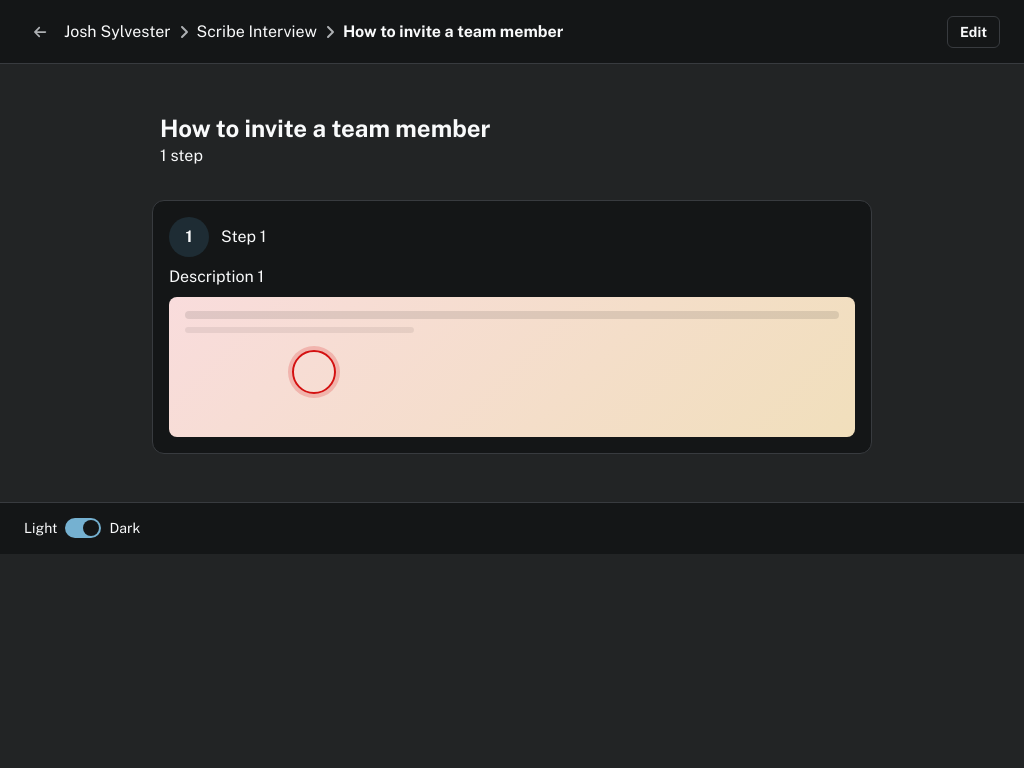
it: App: list sizes › deleting the last step leaves the empty message and focuses Undo
The image size is (1024, 768).
Click the button "Edit" at (974, 32), box [947,16,1000,48]
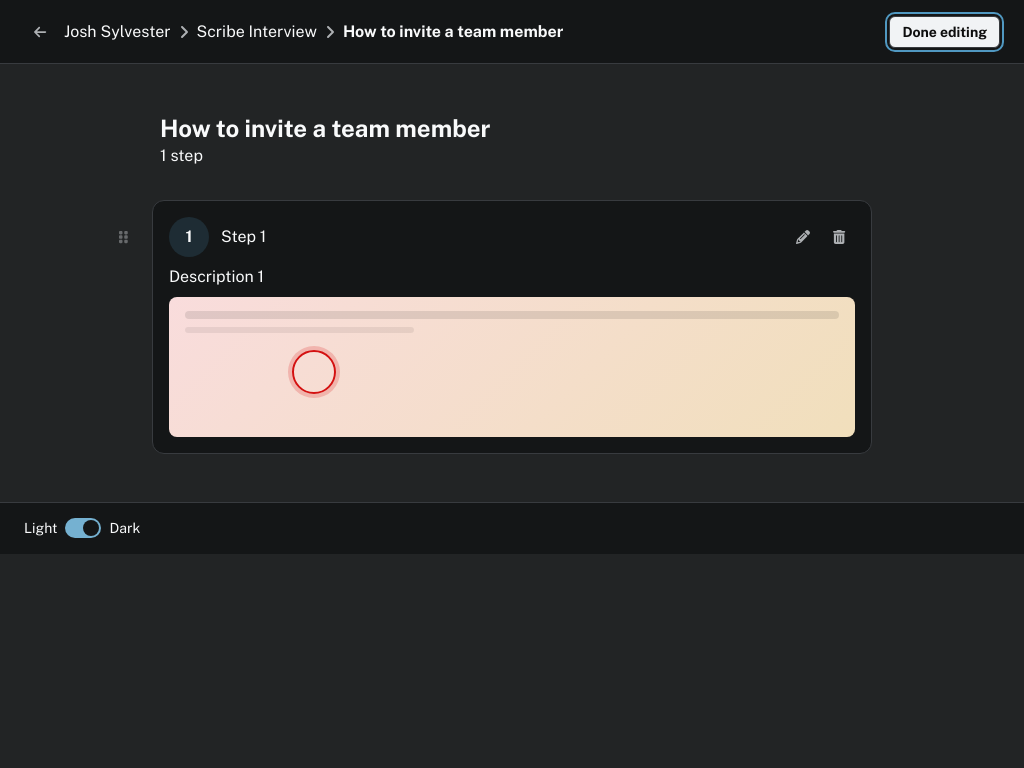
Click the button named "Delete Step 1" at (839, 237), box [823,221,855,253]
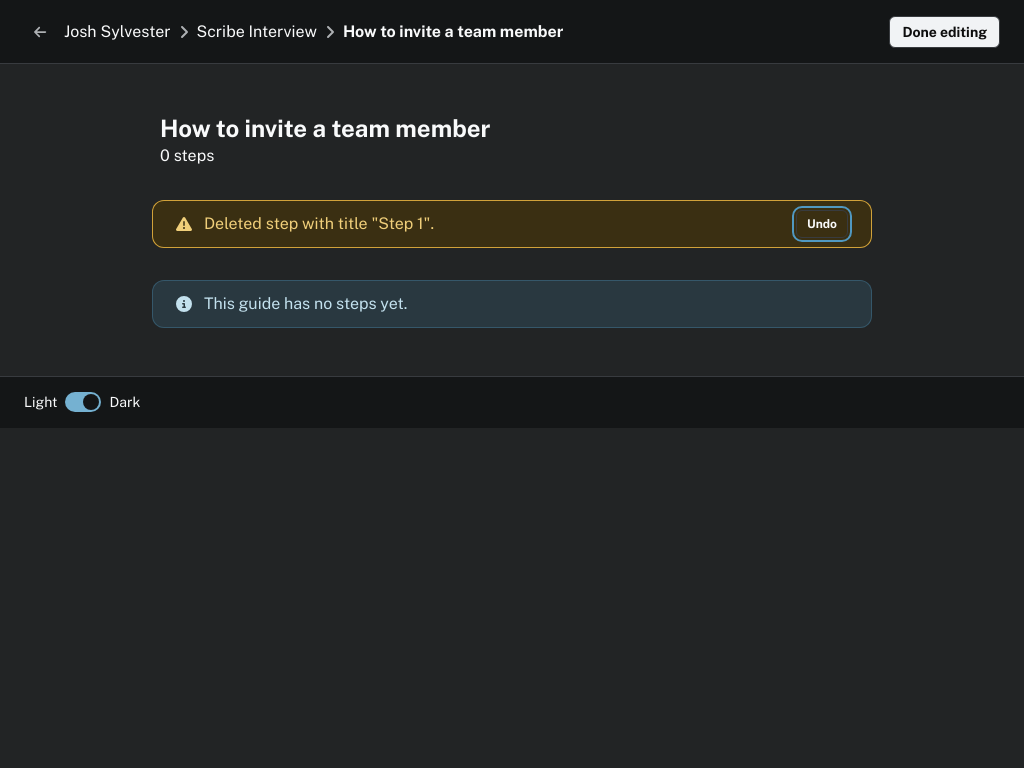
Check: the text "This guide has no steps yet." is shown, box [204,294,407,313]
